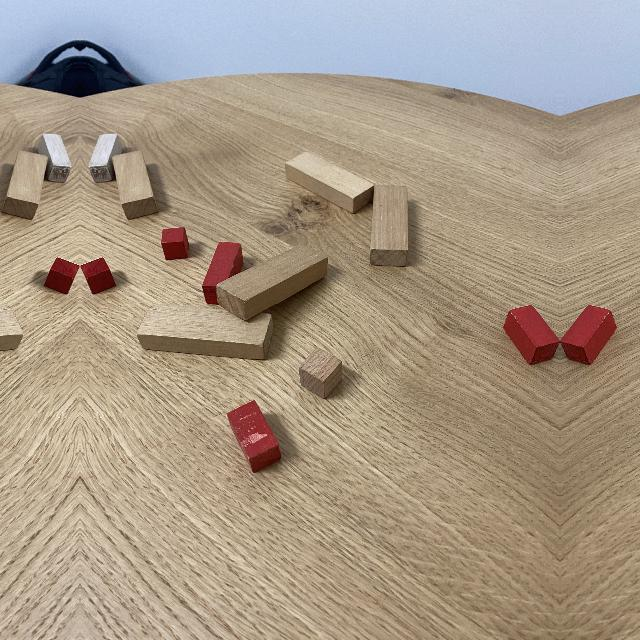block: (86, 129, 124, 183), (36, 129, 74, 183)
cube: (299, 349, 343, 398)
jenga: (215, 245, 328, 318), (135, 302, 276, 359), (283, 148, 373, 213), (111, 152, 162, 223), (0, 152, 49, 223), (370, 185, 408, 267)
red block: (227, 398, 282, 475), (501, 305, 558, 365), (562, 305, 619, 365), (201, 239, 245, 302)
red cube: (84, 257, 119, 297), (41, 257, 76, 297), (162, 229, 190, 262)
